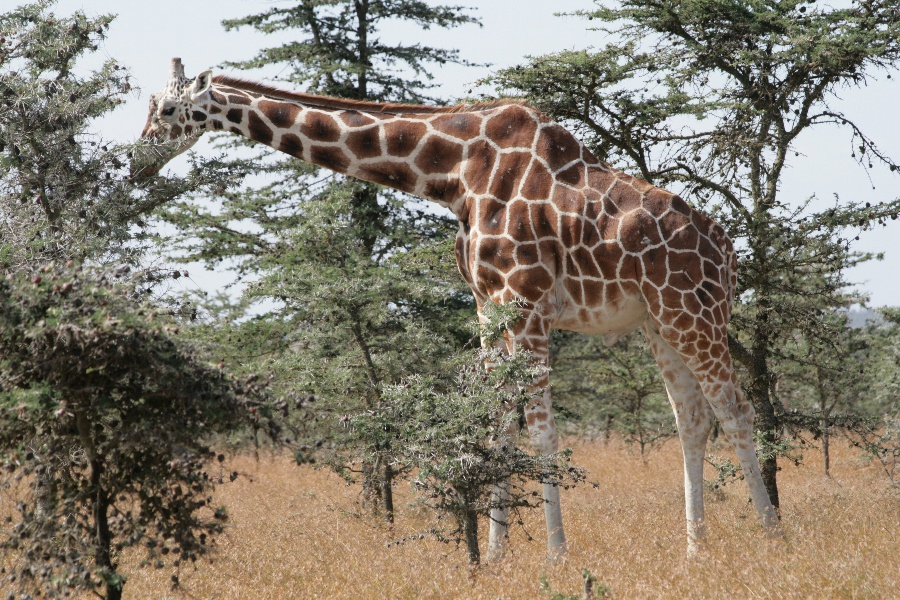giraffe: (114, 42, 801, 582)
